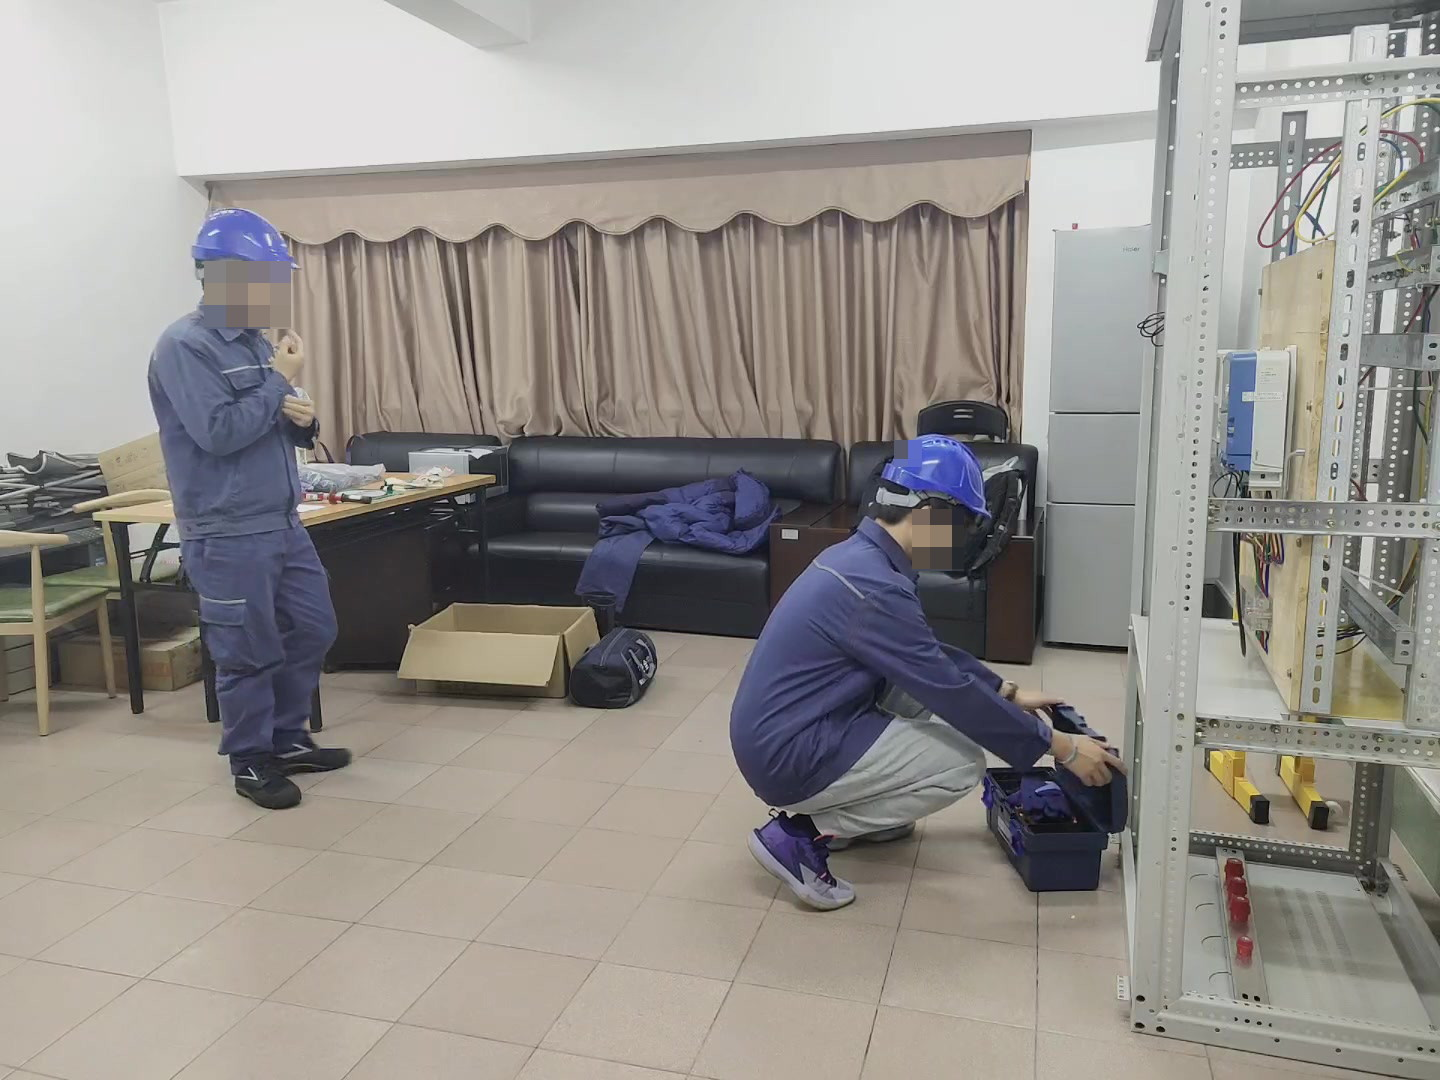downcloth: (783, 719, 989, 844)
downsuit: (184, 543, 337, 755)
halt: (877, 433, 993, 571), (188, 208, 300, 319)
hand: (1051, 730, 1128, 789), (265, 328, 317, 383), (1004, 682, 1067, 721), (278, 391, 326, 433)
inear: (208, 265, 242, 307)
noear: (903, 506, 950, 561)
person: (727, 424, 1133, 905), (144, 205, 353, 796)
upsuit: (727, 522, 1044, 809), (144, 298, 318, 526)
